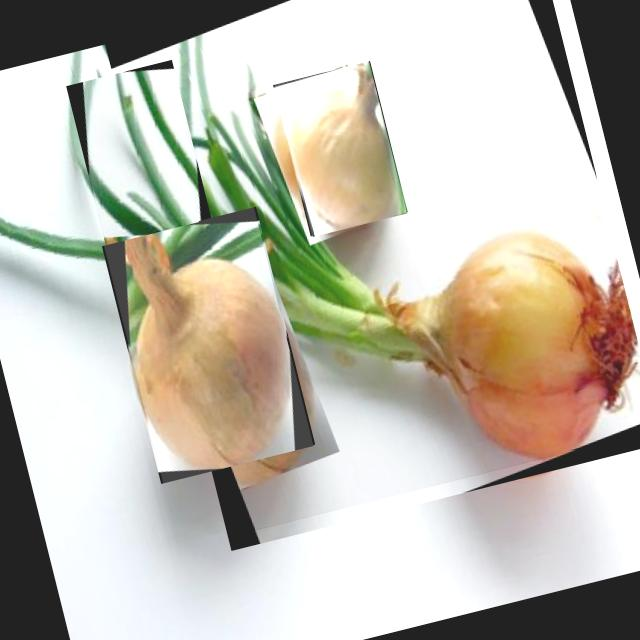healthy: (124, 233, 288, 467), (287, 63, 391, 226)
sprouting: (126, 116, 638, 458), (88, 72, 203, 266)
